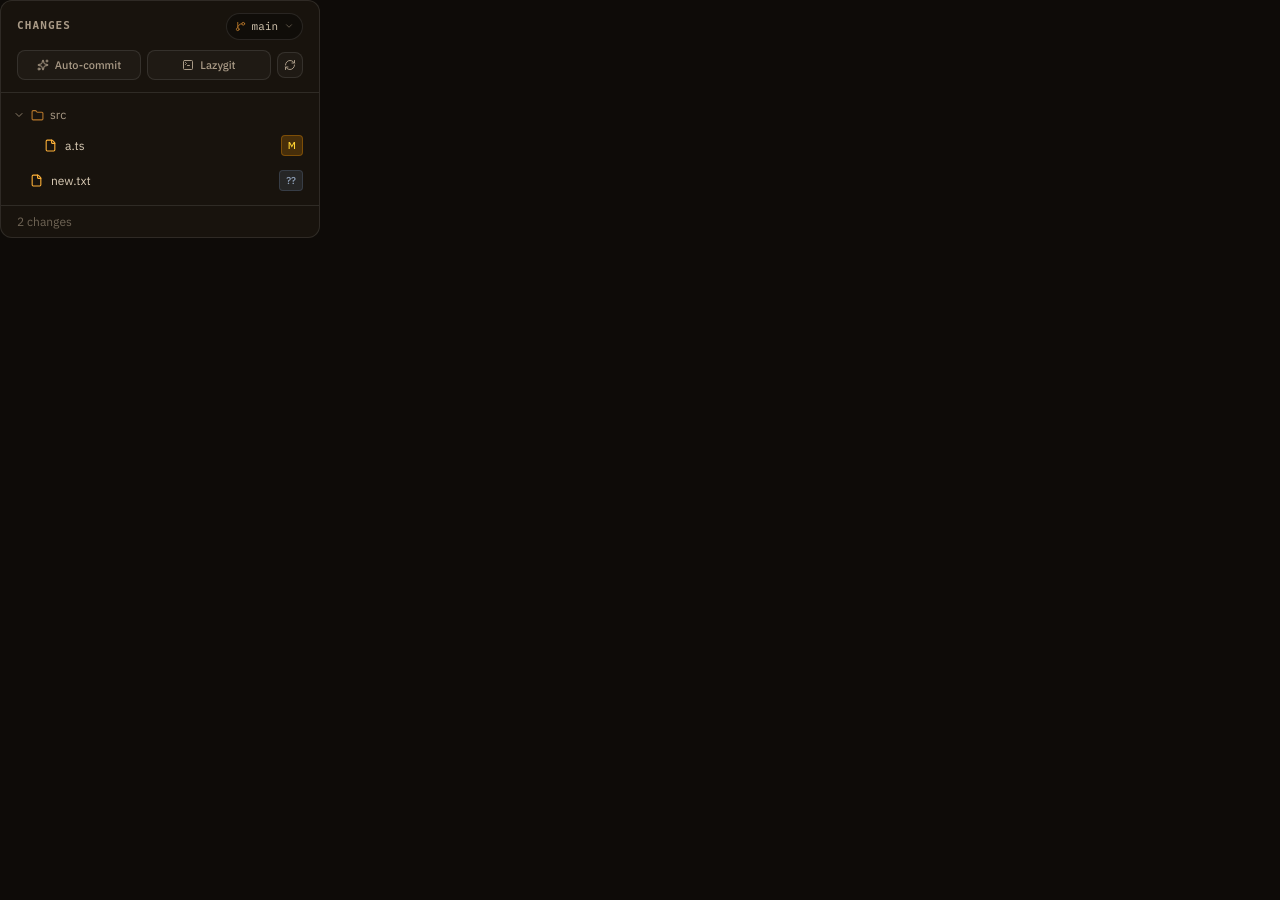
it: GitPanel › clicking a file row opens it in the file editor dialog, defaulting to diff view
Click the text "a.ts" at coordinates (75, 145), box [65,138,85,152]
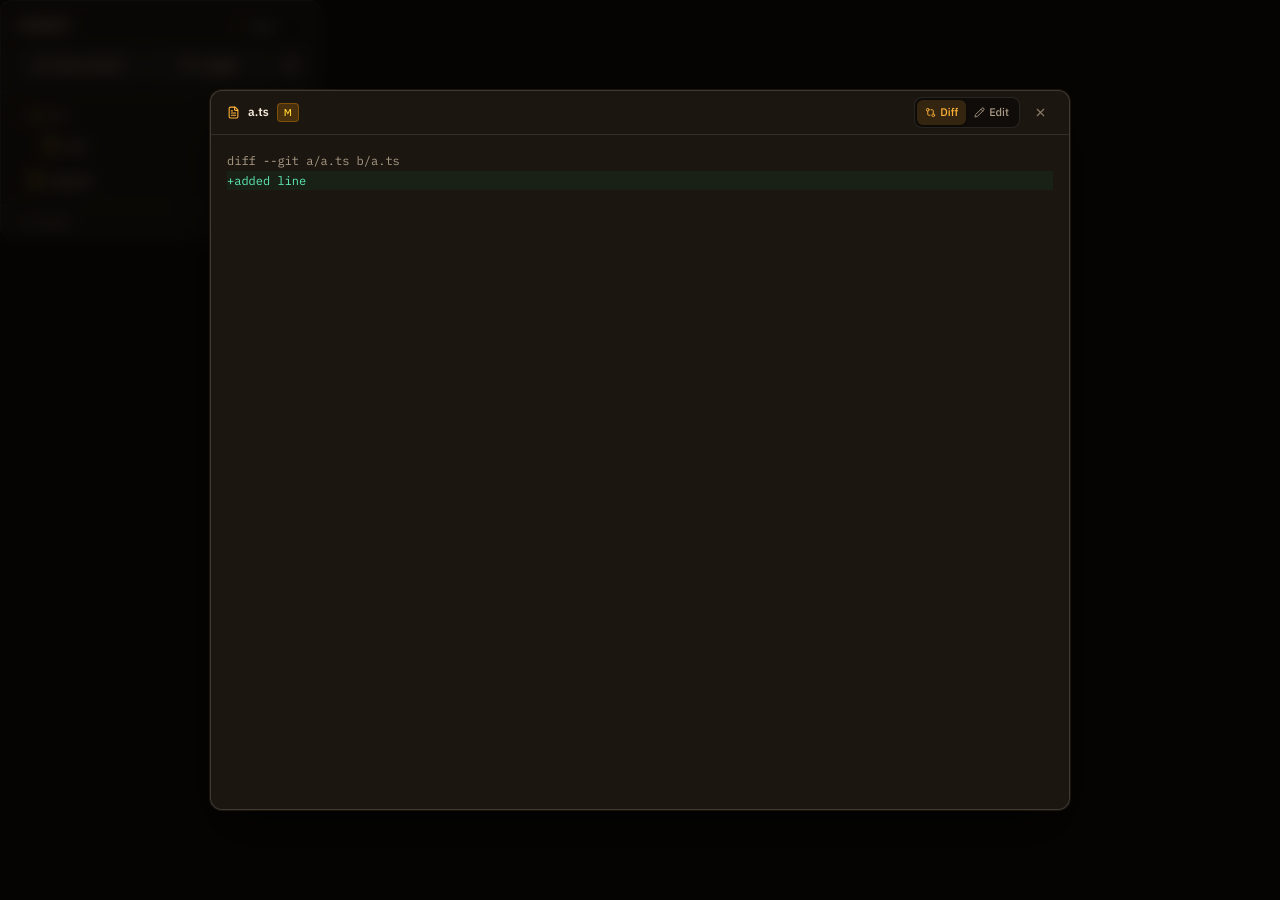
Expected: the text "+added line" is shown, [227,170,1053,190]
